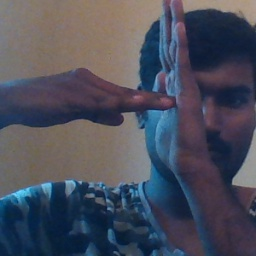Z: (98, 1, 205, 186)
